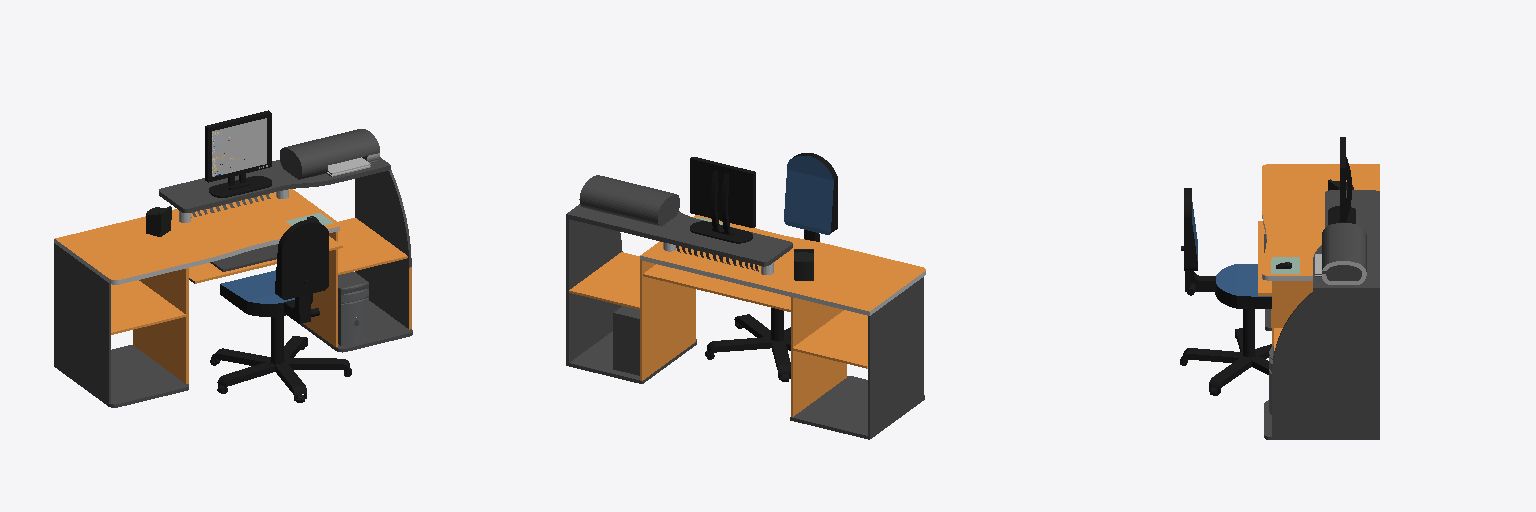
3 views of the same model, side by side, from view 1: azimuth 30°, elevation 25°; view 2: azimuth 150°, elevation 25°; view 3: azimuth 270°, elevation 25° (orthographic).
Visible parts, largest first — view 1: Mesh10 Group1 Computer_desk_with_chair__printer__keyboard__mouse, Mesh5 Group6 Group1 Computer_desk_with_chair__printer__keyboard_, Mesh2 Group3 Group1 Computer_desk_with_chair__printer__keyboard_, Mesh56 Group37 Group9 Computer_desk_with_chair__printer__keyboar, Mesh1 Group2 Group1 Computer_desk_with_chair__printer__keyboard_, Mesh4 Group5 Group1 Computer_desk_with_chair__printer__keyboard_, Mesh28 Group10 Group9 Computer_desk_with_chair__printer__keyboar, Mesh17 Group1 Computer_desk_with_chair__printer__keyboard__mouse, Mesh3 Group4 Group1 Computer_desk_with_chair__printer__keyboard_, Mesh36 Group19 Group16 Group9 Computer_desk_with_chair__printer_, Mesh8 Group8 Group1 Computer_desk_with_chair__printer__keyboard_, Mesh41 Group24 Group21 Group9 Computer_desk_with_chair__printer_ (+4 smaller); view 2: Mesh10 Group1 Computer_desk_with_chair__printer__keyboard__mouse, Mesh5 Group6 Group1 Computer_desk_with_chair__printer__keyboard_, Mesh2 Group3 Group1 Computer_desk_with_chair__printer__keyboard_, Mesh55 Group38 Group37 Group9 Computer_desk_with_chair__printer_, Mesh1 Group2 Group1 Computer_desk_with_chair__printer__keyboard_, Mesh4 Group5 Group1 Computer_desk_with_chair__printer__keyboard_, Mesh3 Group4 Group1 Computer_desk_with_chair__printer__keyboard_, Mesh46 Group29 Group26 Group9 Computer_desk_with_chair__printer_, Mesh8 Group8 Group1 Computer_desk_with_chair__printer__keyboard_; view 3: Mesh10 Group1 Computer_desk_with_chair__printer__keyboard__mouse, Mesh28 Group10 Group9 Computer_desk_with_chair__printer__keyboar, Mesh5 Group6 Group1 Computer_desk_with_chair__printer__keyboard_, Mesh56 Group37 Group9 Computer_desk_with_chair__printer__keyboar, Mesh31 Group14 Group11 Group9 Computer_desk_with_chair__printer_, Mesh36 Group19 Group16 Group9 Computer_desk_with_chair__printer_, Mesh57 Group9 Computer_desk_with_chair__printer__keyboard__mouse, Mesh3 Group4 Group1 Computer_desk_with_chair__printer__keyboard_.
Part boxes in pixels (x1,y1,x2,y2): Mesh10 Group1 Computer_desk_with_chair__printer__keyboard__mouse: (54, 129, 412, 407); Mesh5 Group6 Group1 Computer_desk_with_chair__printer__keyboard_: (205, 110, 271, 197); Mesh2 Group3 Group1 Computer_desk_with_chair__printer__keyboard_: (133, 268, 188, 383); Mesh56 Group37 Group9 Computer_desk_with_chair__printer__keyboar: (275, 220, 328, 299); Mesh1 Group2 Group1 Computer_desk_with_chair__printer__keyboard_: (111, 280, 185, 334); Mesh4 Group5 Group1 Computer_desk_with_chair__printer__keyboard_: (338, 218, 407, 274); Mesh28 Group10 Group9 Computer_desk_with_chair__printer__keyboar: (220, 270, 312, 316); Mesh17 Group1 Computer_desk_with_chair__printer__keyboard__mouse: (210, 244, 277, 271); Mesh3 Group4 Group1 Computer_desk_with_chair__printer__keyboard_: (189, 236, 342, 283); Mesh36 Group19 Group16 Group9 Computer_desk_with_chair__printer_: (284, 358, 349, 369); Mesh8 Group8 Group1 Computer_desk_with_chair__printer__keyboard_: (146, 206, 171, 236); Mesh41 Group24 Group21 Group9 Computer_desk_with_chair__printer_: (217, 363, 279, 386); Mesh10 Group1 Computer_desk_with_chair__printer__keyboard__mouse: (566, 175, 925, 439); Mesh5 Group6 Group1 Computer_desk_with_chair__printer__keyboard_: (690, 157, 755, 243); Mesh2 Group3 Group1 Computer_desk_with_chair__printer__keyboard_: (791, 297, 846, 416); Mesh55 Group38 Group37 Group9 Computer_desk_with_chair__printer_: (784, 156, 833, 234); Mesh1 Group2 Group1 Computer_desk_with_chair__printer__keyboard_: (792, 310, 867, 368); Mesh4 Group5 Group1 Computer_desk_with_chair__printer__keyboard_: (569, 252, 639, 309); Mesh3 Group4 Group1 Computer_desk_with_chair__printer__keyboard_: (643, 264, 790, 311); Mesh46 Group29 Group26 Group9 Computer_desk_with_chair__printer_: (707, 337, 771, 352); Mesh8 Group8 Group1 Computer_desk_with_chair__printer__keyboard_: (794, 249, 813, 280); Mesh10 Group1 Computer_desk_with_chair__printer__keyboard__mouse: (1262, 164, 1379, 439); Mesh28 Group10 Group9 Computer_desk_with_chair__printer__keyboar: (1215, 264, 1271, 308); Mesh5 Group6 Group1 Computer_desk_with_chair__printer__keyboard_: (1328, 137, 1355, 224); Mesh56 Group37 Group9 Computer_desk_with_chair__printer__keyboar: (1184, 188, 1197, 270); Mesh31 Group14 Group11 Group9 Computer_desk_with_chair__printer_: (1181, 348, 1242, 362); Mesh36 Group19 Group16 Group9 Computer_desk_with_chair__printer_: (1209, 356, 1252, 388); Mesh57 Group9 Computer_desk_with_chair__printer__keyboard__mouse: (1243, 309, 1254, 356); Mesh3 Group4 Group1 Computer_desk_with_chair__printer__keyboard_: (1258, 221, 1271, 295).
Bounding box in the file's own units: 88.76 × 61.75 × 50.84.
11 materials, 1 textured.